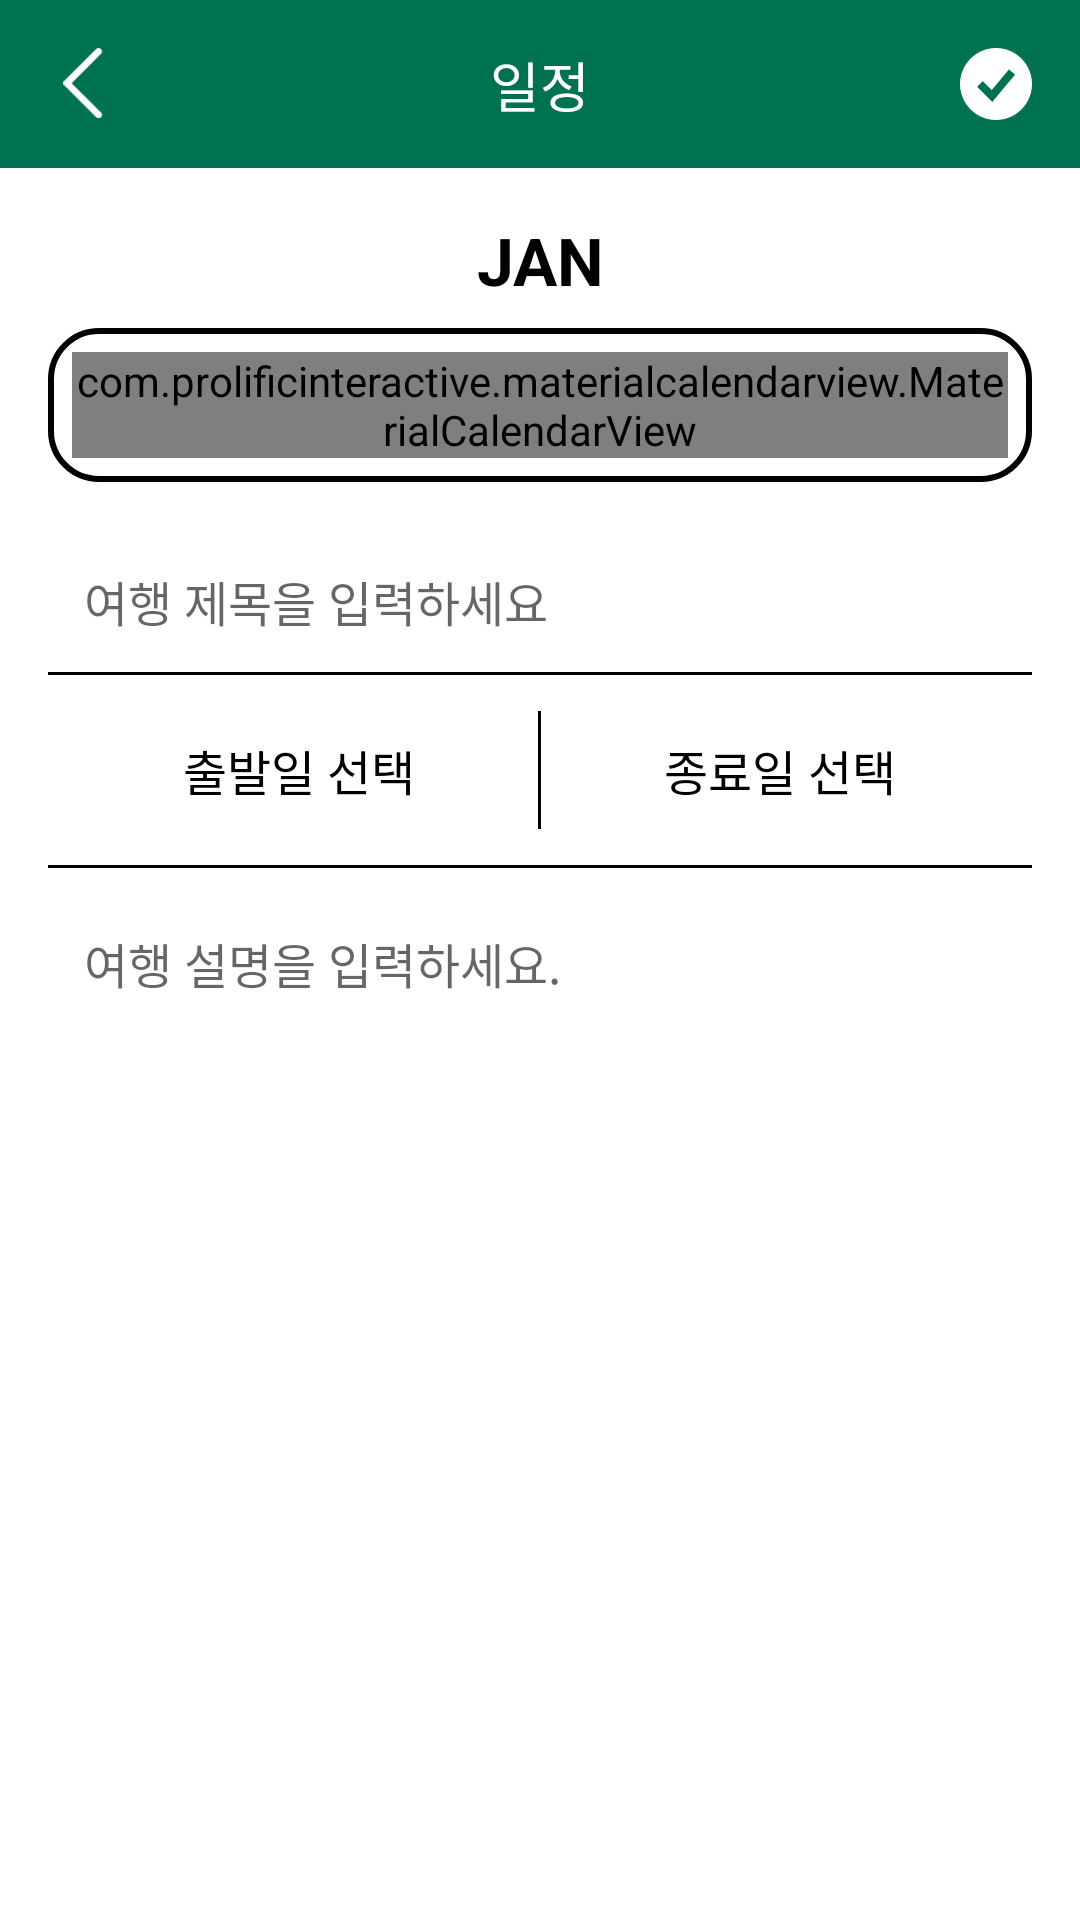

Icon click points for this 1080*1920 phone screenshot, format (x=x, y=y):
뒤로가기: (x=83, y=83)
확인: (x=996, y=84)
